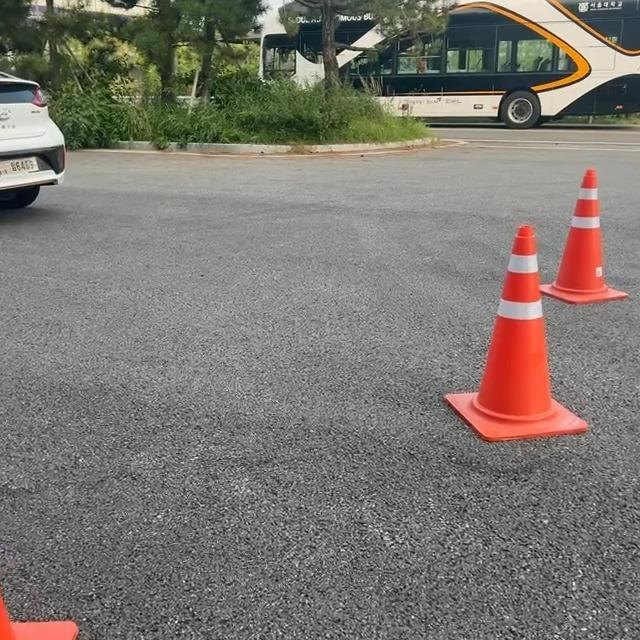fallen_object: (465, 210, 566, 481), (532, 165, 637, 373)
